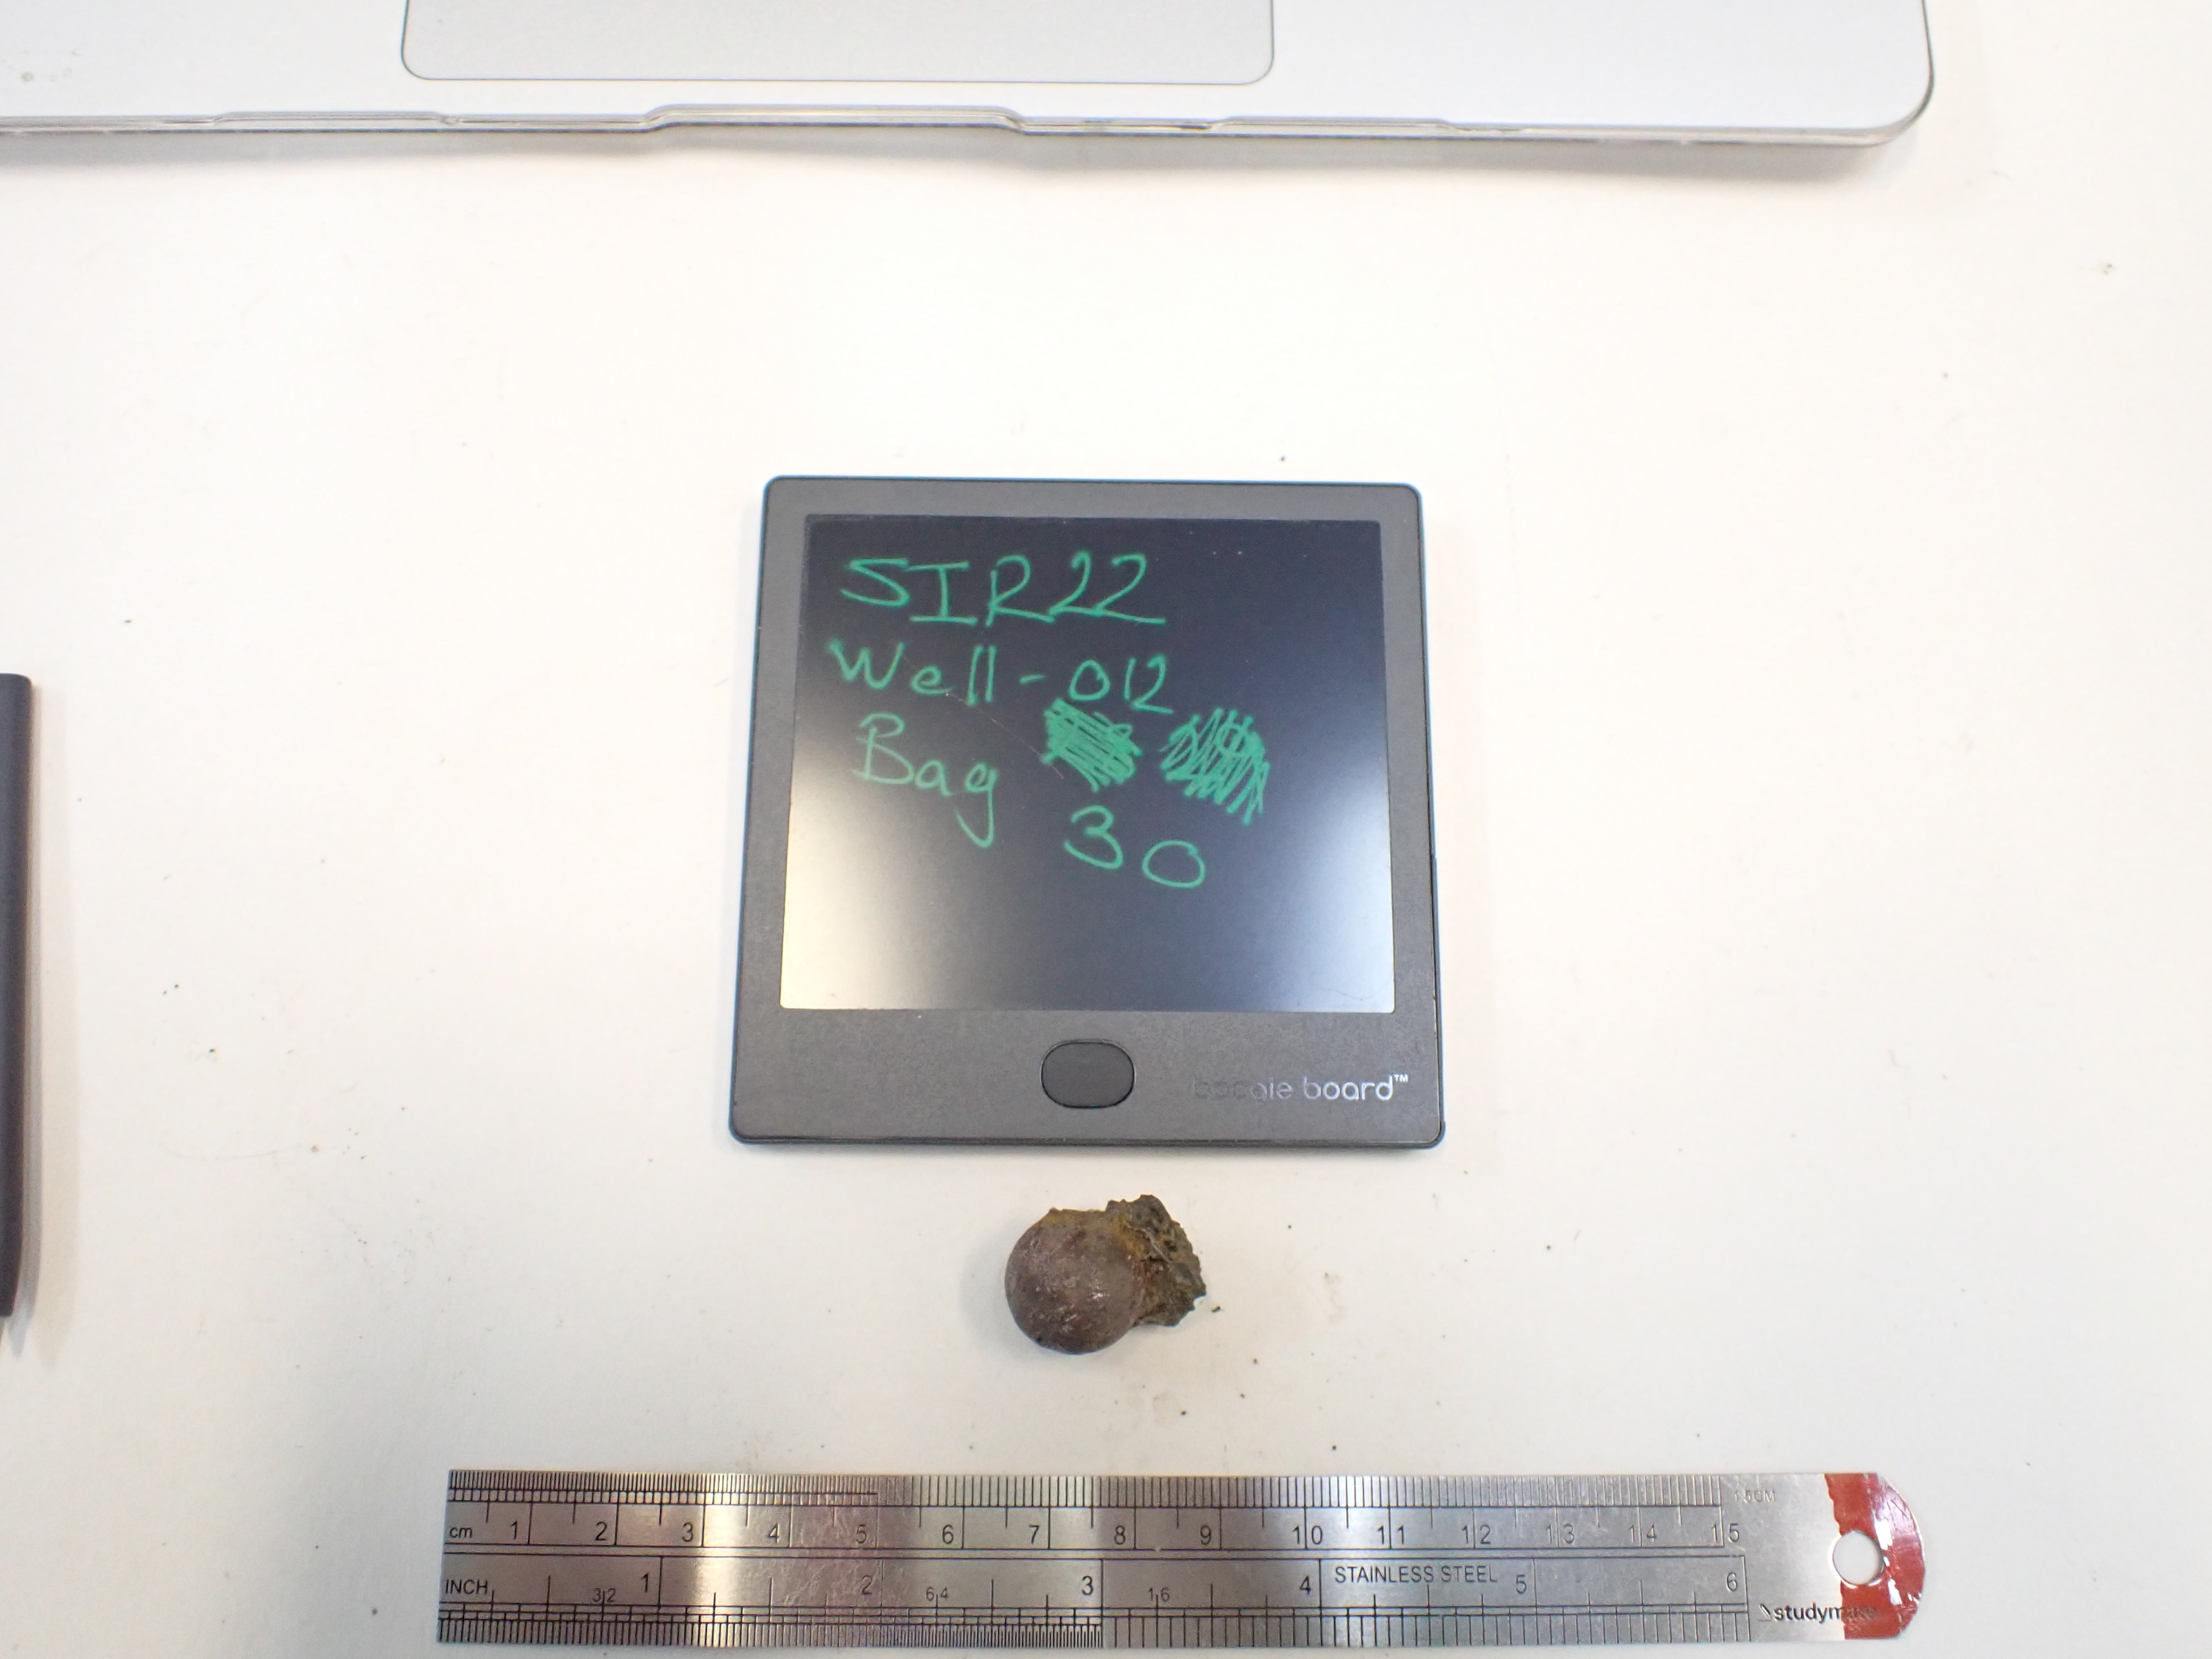Counted_Objects: (984, 1182, 1217, 1359)
Not_Counted_Objects: (721, 446, 1470, 1162), (0, 0, 1970, 186), (430, 1439, 1933, 1659), (0, 650, 49, 1342)
